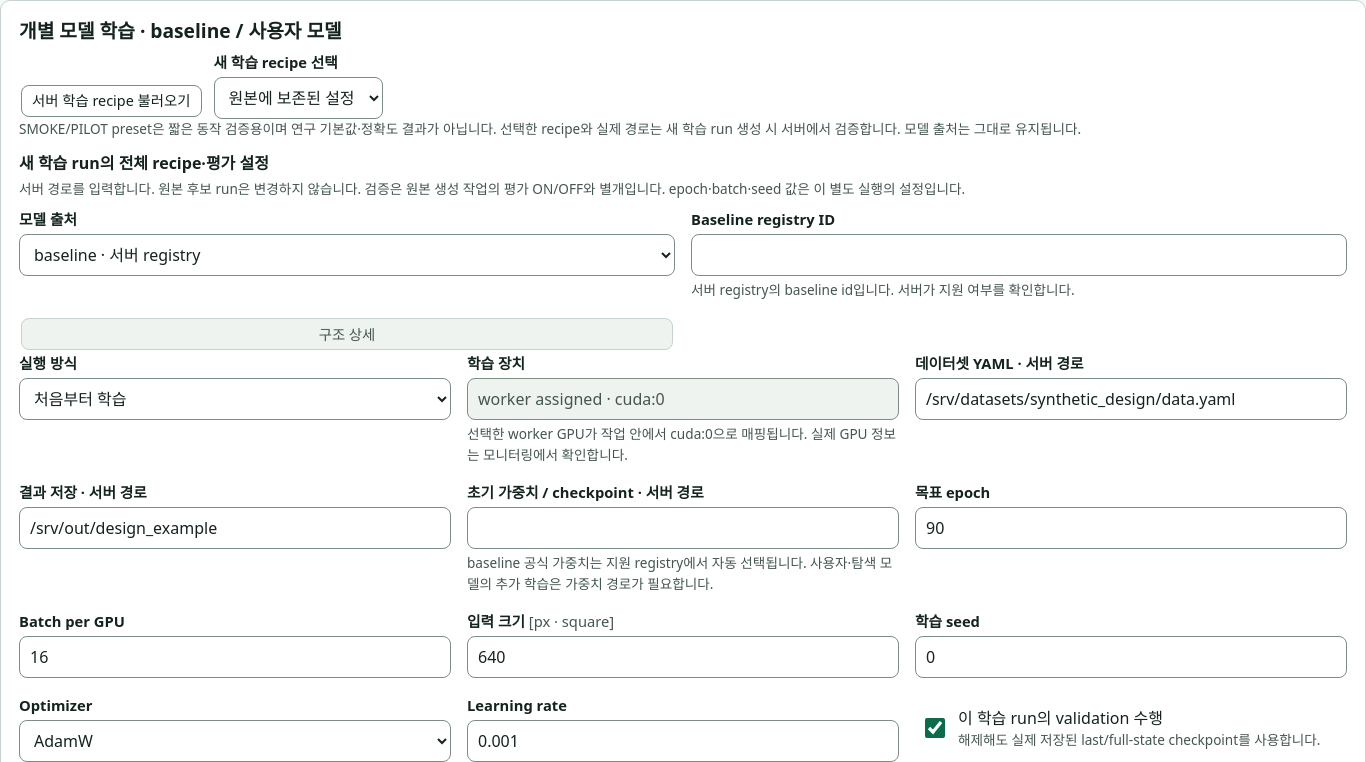
Test: TrainingPanel evaluate_only (I4-#3) › offers evaluate_only for a baseline source and drops it (and a selected evaluate_only) for a user model
Select "공식 가중치 평가 전용" in the dropdown with test id "training-mode" at (235, 399), box [19,378,451,420]
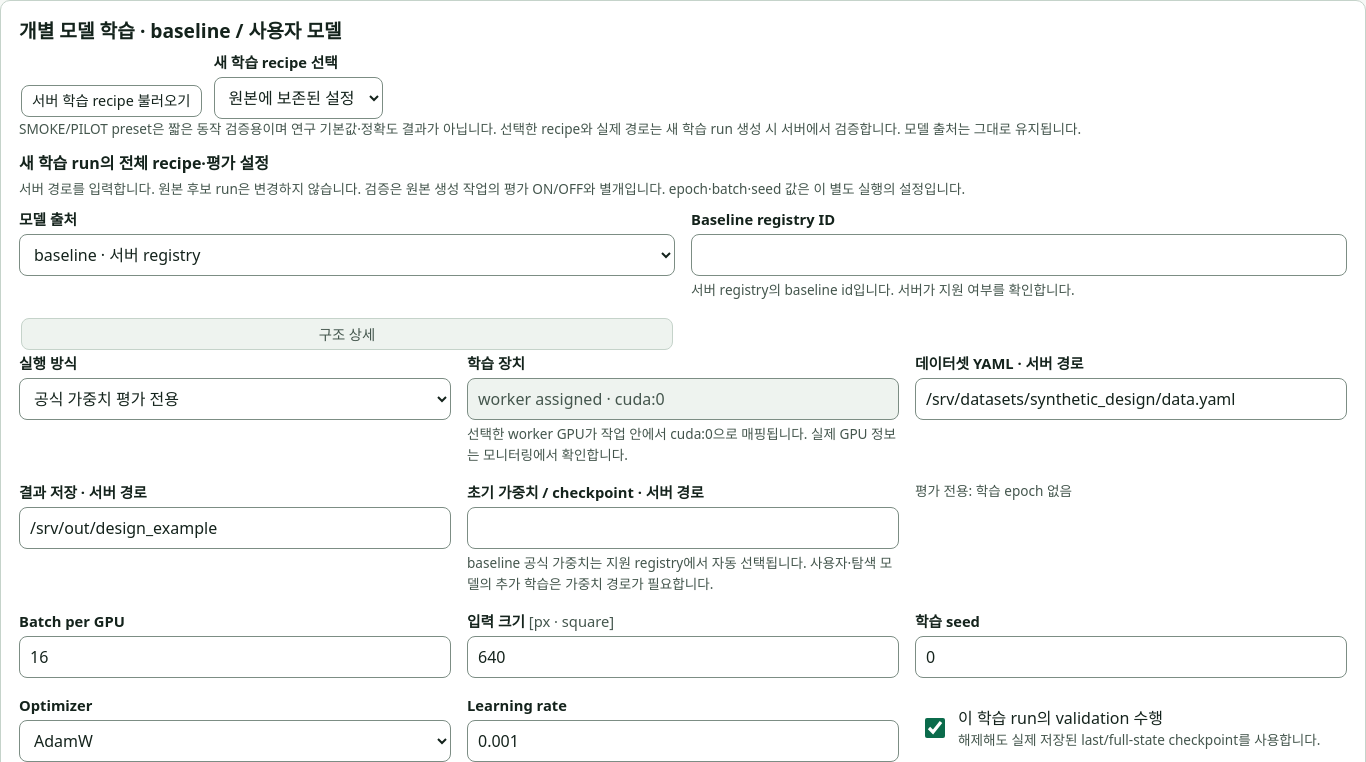
Result: the text "평가 전용: 학습 epoch 없음" is shown at [915,481,1072,500]
Select "사용자 지정 모델 · YAML 업로드" in the dropdown labelled "모델 출처" at (347, 255), box [19,234,675,276]
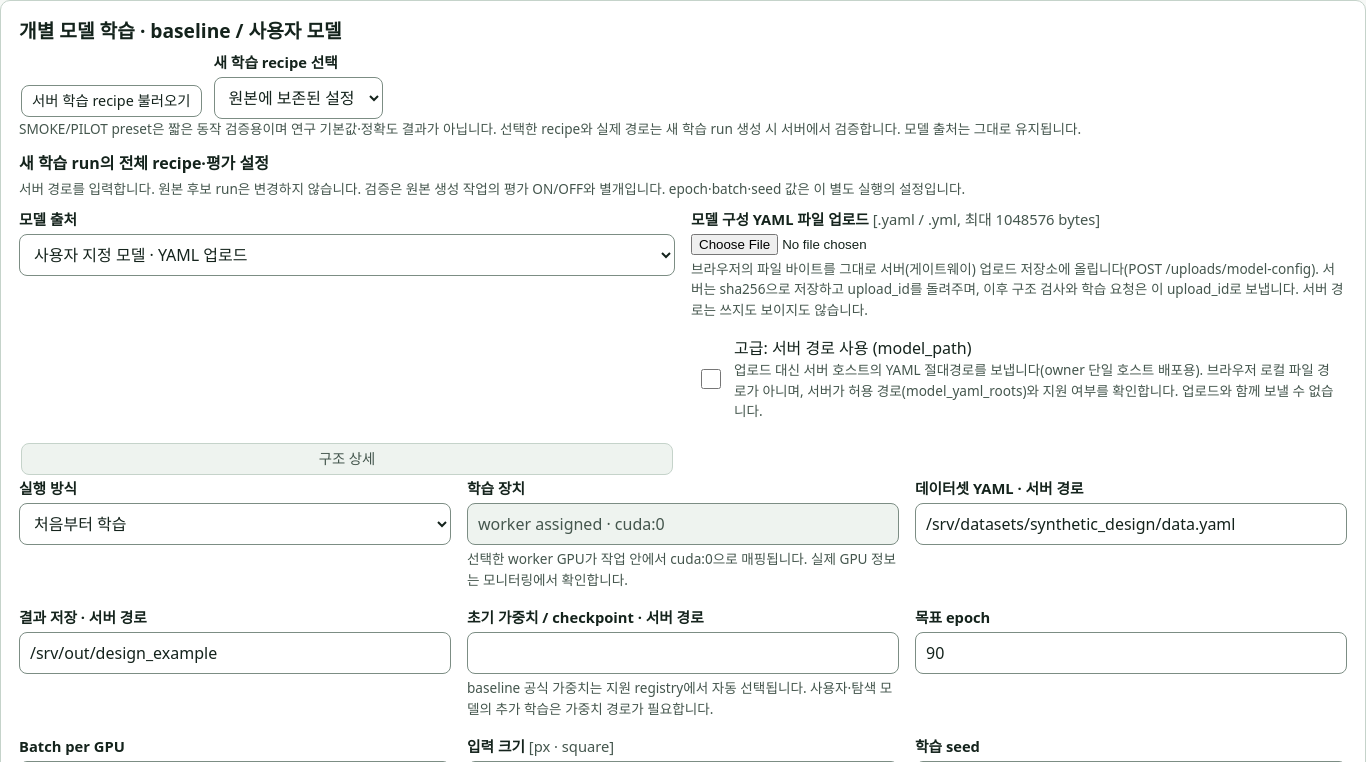
Result: the text with test id "evaluate-only-epoch-help" is gone
Result: the text "목표 epoch" is shown at [915,607,990,627]
